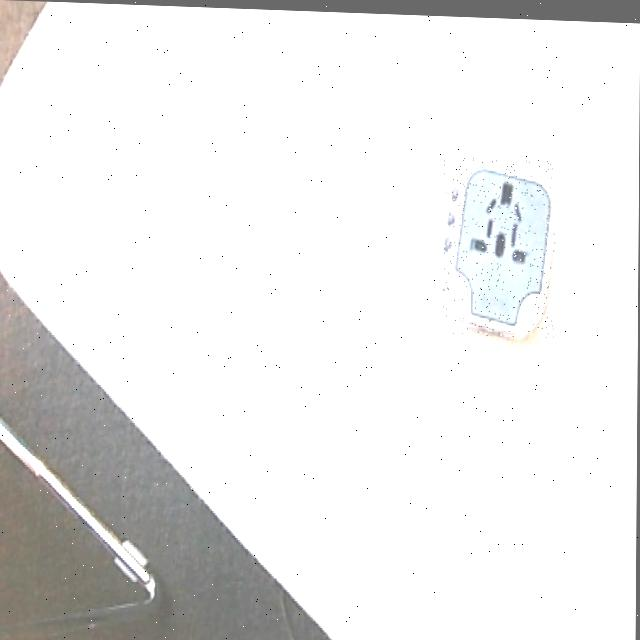adapter: (443, 152, 556, 334)
